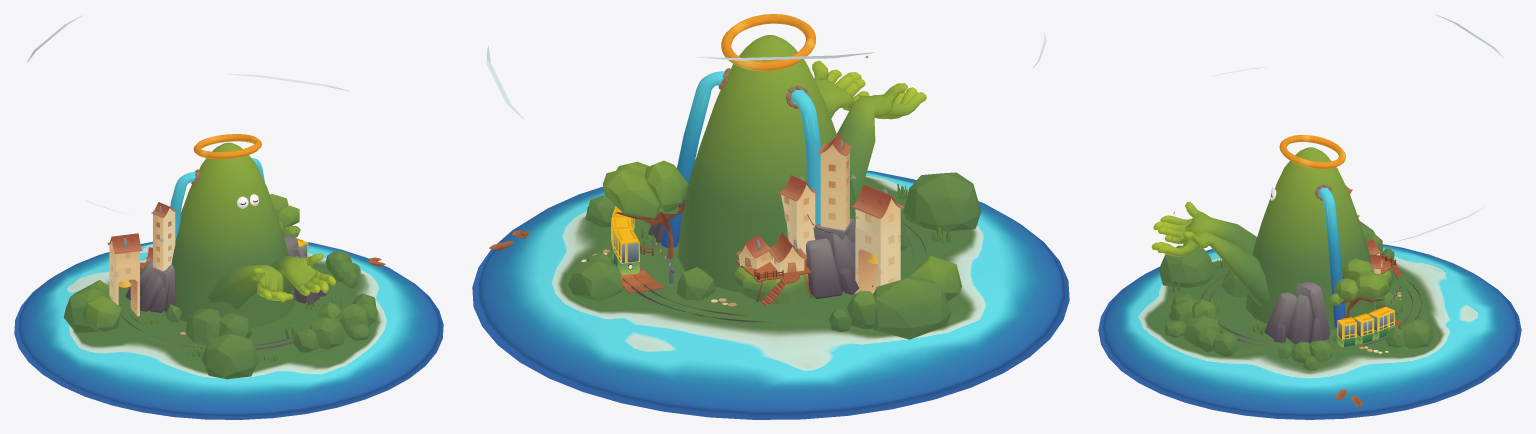
The model's file is Tintanic.glb.
The picture shows the model from 3 angles, left to right: view 1: azimuth 30°, elevation 25°; view 2: azimuth 150°, elevation 25°; view 3: azimuth 270°, elevation 25°; orthographic projection. The views are drawn at different scales.
Parts seen in each view (by area): view 1: Icosphere.003, Sphere, Icosphere.001, Hand Base Mesh.001, Hand Base Mesh.002, Rocks_Material #116_0.003, House_Material #149_0.002, Sphere.001, House_Material #149_0.006, House_Material #149_0.007, Icosphere.005, Cylinder.004; view 2: Icosphere.003, Sphere, Icosphere.001, Icosphere.005, Hand Base Mesh.001, House_Material #149_0.002, House_Material #149_0.006, Cylinder.005, Rocks_Material #116_0.001, Sphere.001, House_Material #149_0.001, Cylinder.004 (+11 smaller); view 3: Icosphere.003, Sphere, Icosphere.001, Hand Base Mesh.002, Hand Base Mesh.001, Rocks_Material #116_0.002, Icosphere.005, Object_26.002, Cylinder.005, Sphere.001, Rocks_Material #116_0.004.
Part boxes in pixels (left/top/right/bottom): Icosphere.003: left=14, top=241, right=443, bottom=419; Sphere: left=171, top=142, right=294, bottom=327; Icosphere.001: left=63, top=251, right=378, bottom=379; Hand Base Mesh.001: left=207, top=265, right=293, bottom=309; Hand Base Mesh.002: left=269, top=253, right=335, bottom=295; Rocks_Material #116_0.003: left=135, top=264, right=176, bottom=312; House_Material #149_0.002: left=151, top=202, right=177, bottom=271; Sphere.001: left=193, top=134, right=261, bottom=159; House_Material #149_0.006: left=109, top=259, right=139, bottom=316; House_Material #149_0.007: left=107, top=233, right=142, bottom=266; Icosphere.005: left=270, top=194, right=300, bottom=237; Cylinder.004: left=170, top=172, right=195, bottom=240; Icosphere.003: left=472, top=170, right=1069, bottom=419; Sphere: left=677, top=35, right=855, bottom=292; Icosphere.001: left=568, top=160, right=981, bottom=339; Icosphere.005: left=603, top=160, right=688, bottom=218; Hand Base Mesh.001: left=837, top=83, right=926, bottom=201; House_Material #149_0.002: left=818, top=134, right=852, bottom=230; House_Material #149_0.006: left=855, top=227, right=900, bottom=293; Cylinder.005: left=661, top=71, right=726, bottom=247; Rocks_Material #116_0.001: left=806, top=238, right=858, bottom=298; Sphere.001: left=721, top=14, right=815, bottom=71; House_Material #149_0.001: left=777, top=175, right=817, bottom=259; Cylinder.004: left=790, top=89, right=820, bottom=224; Icosphere.003: left=1098, top=244, right=1521, bottom=419; Sphere: left=1246, top=147, right=1375, bottom=329; Icosphere.001: left=1159, top=220, right=1434, bottom=370; Hand Base Mesh.002: left=1151, top=231, right=1270, bottom=307; Hand Base Mesh.001: left=1153, top=202, right=1256, bottom=254; Rocks_Material #116_0.002: left=1286, top=282, right=1329, bottom=344; Icosphere.005: left=1329, top=258, right=1389, bottom=305; Object_26.002: left=1337, top=306, right=1394, bottom=346; Cylinder.005: left=1318, top=187, right=1345, bottom=327; Sphere.001: left=1279, top=135, right=1345, bottom=168; Rocks_Material #116_0.004: left=1264, top=291, right=1296, bottom=342.
Size of the model in its own units: 3.22 by 2.1 by 3.22.
Materials: 8 (8 with a texture image).
